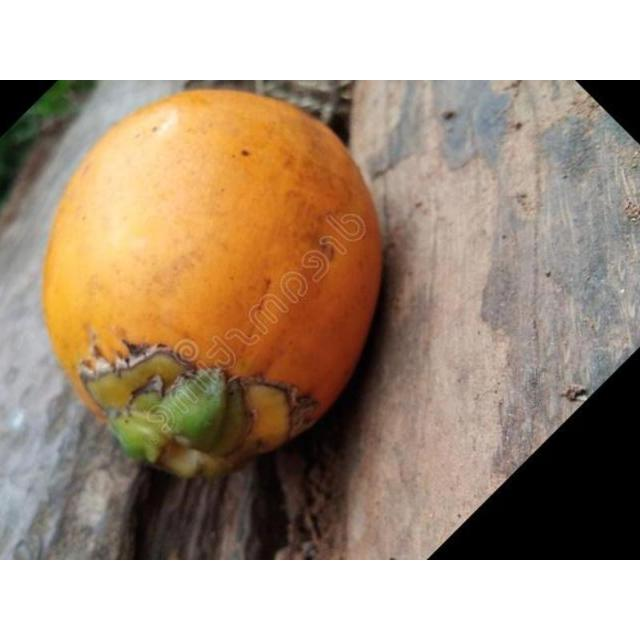good: (38, 90, 384, 483)
